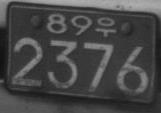2: (11, 36, 42, 87)
3: (47, 38, 77, 89)
6: (116, 45, 149, 96)
7: (83, 40, 114, 92)
8: (46, 12, 67, 34)
9: (70, 14, 92, 35)
우: (95, 16, 116, 37)
